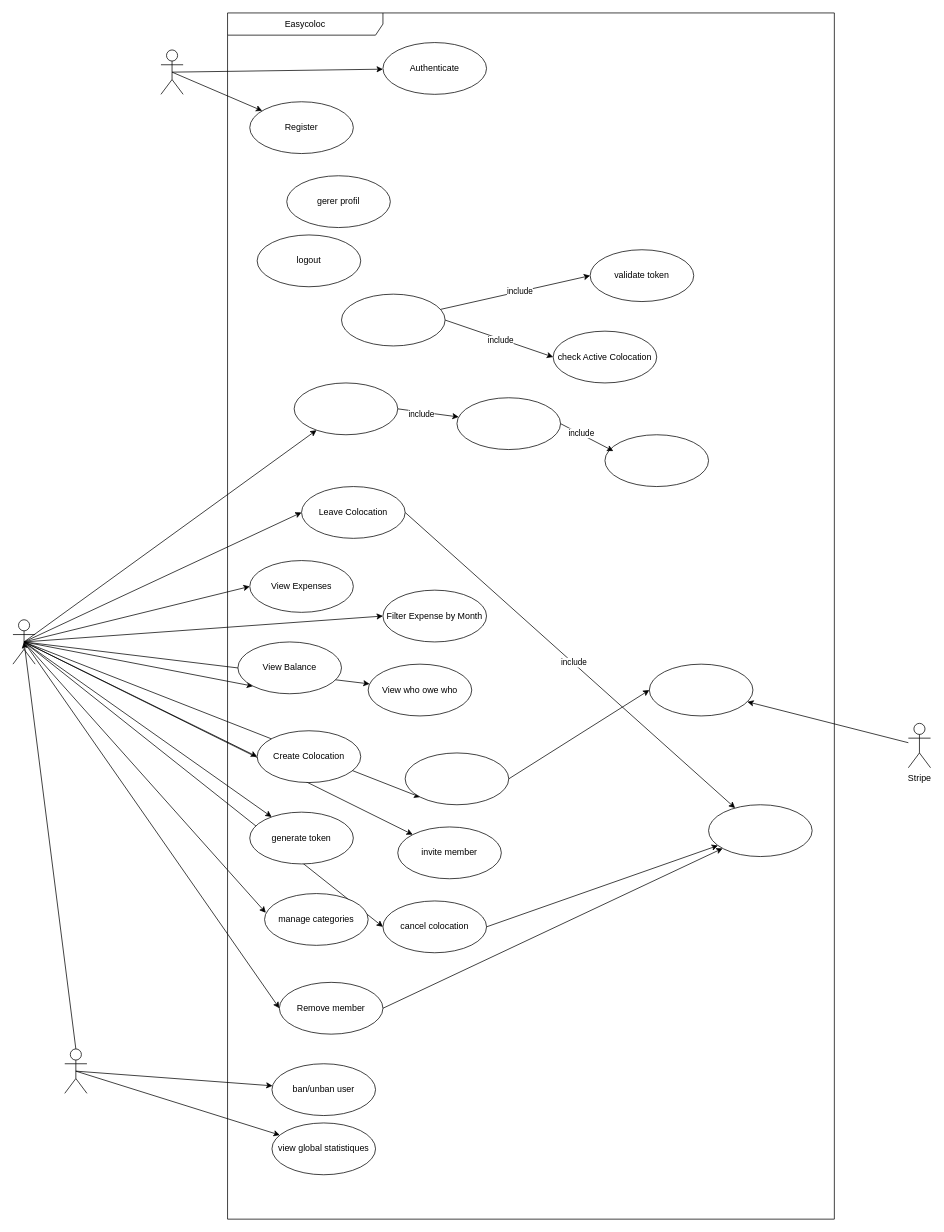
Some shapes in this 944 by 1232 pixel diagram are drawn without their labels. Here are the shapes that lost their labels. From the top down, the box of each, then its label:
(160, 49, 183, 94): Visiteur
(341, 293, 445, 346): Join colocation via invit
(293, 382, 398, 435): Add Expense
(456, 397, 561, 450): Calculate Balance
(604, 434, 709, 487): Generate debts
(12, 619, 35, 664): User
(649, 663, 753, 716): pay bill
(404, 752, 509, 805): Make payment
(708, 804, 812, 857): Update Reputation
(64, 1048, 87, 1093): Admin
